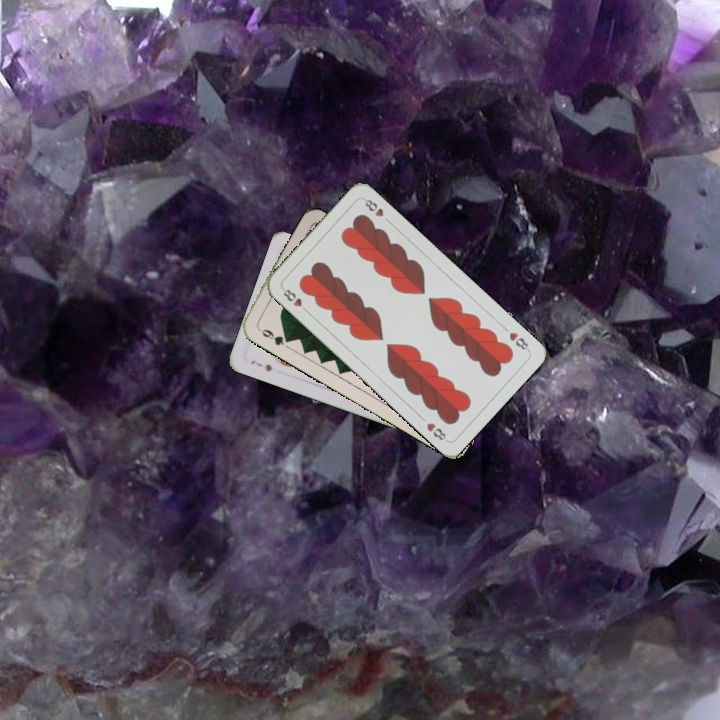G9: (253, 323, 293, 348)
H8: (278, 284, 311, 315), (505, 328, 532, 354)
S7: (247, 356, 274, 374)
